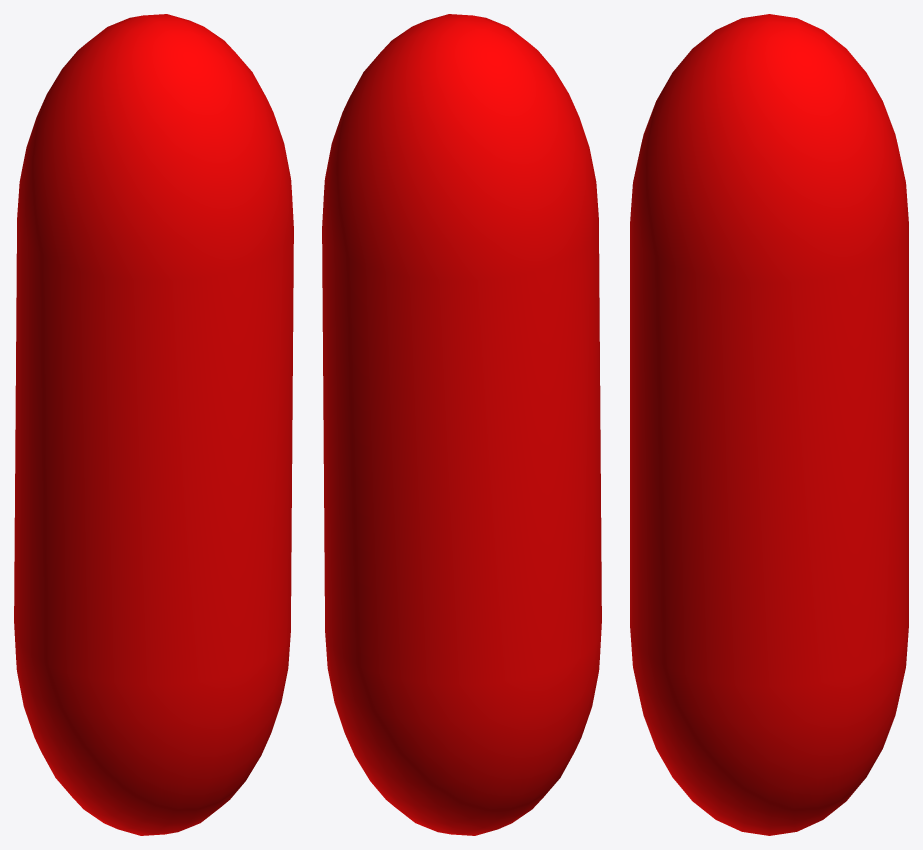
File: PlayerModel.fbx
3 renders of one model, left to right at view 1: azimuth 30°, elevation 25°; view 2: azimuth 150°, elevation 25°; view 3: azimuth 270°, elevation 25°, orthographic.
Parts seen in each view (by area): view 1: PlayerModel; view 2: PlayerModel; view 3: PlayerModel.
Part boxes in pixels (x1,y1,x2,y2): PlayerModel: (14,14,293,835); PlayerModel: (322,14,601,835); PlayerModel: (630,14,908,835).
Size of the model in its own units: 101 by 320 by 100.
